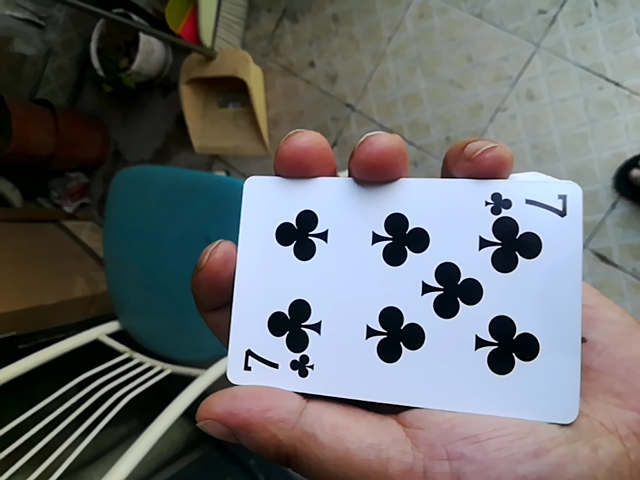mh 7: (224, 164, 592, 422)
